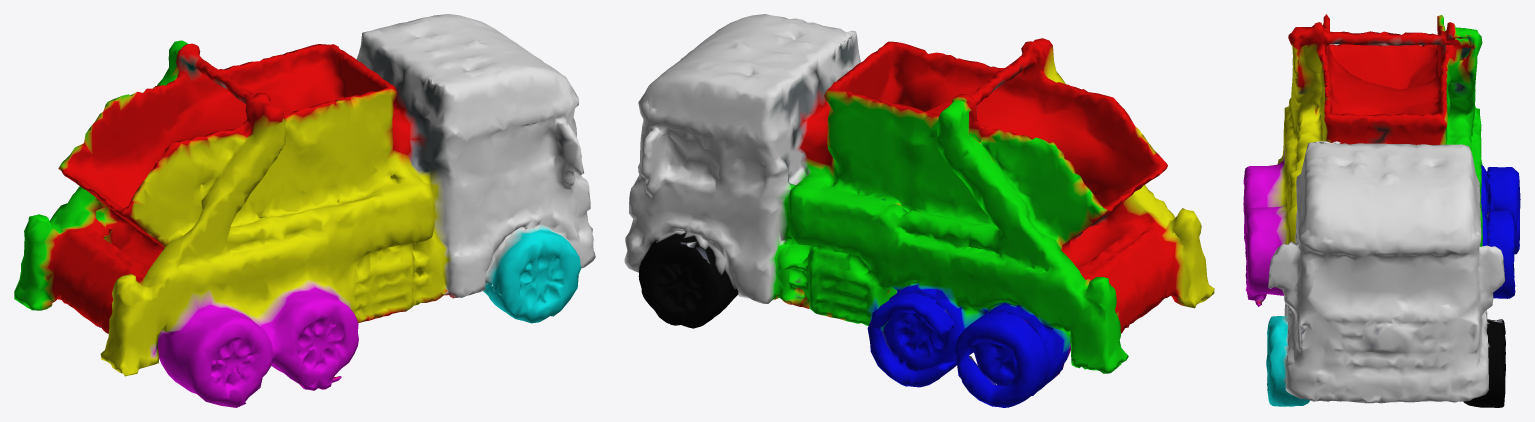
Rendered from annotation.glb.
3 renders of one model, left to right at view 1: azimuth 30°, elevation 25°; view 2: azimuth 150°, elevation 25°; view 3: azimuth 270°, elevation 25°, orthographic. The views are drawn at different scales.
Visible parts, largest first — view 1: simple_mesh; view 2: simple_mesh; view 3: simple_mesh.
Boxes of the visible parts, <box> form: simple_mesh: <box>14,14,595,407</box>; simple_mesh: <box>624,14,1214,407</box>; simple_mesh: <box>1243,14,1520,407</box>.
Bounding box in the file's own units: 0.2997 × 0.1603 × 0.1531.
